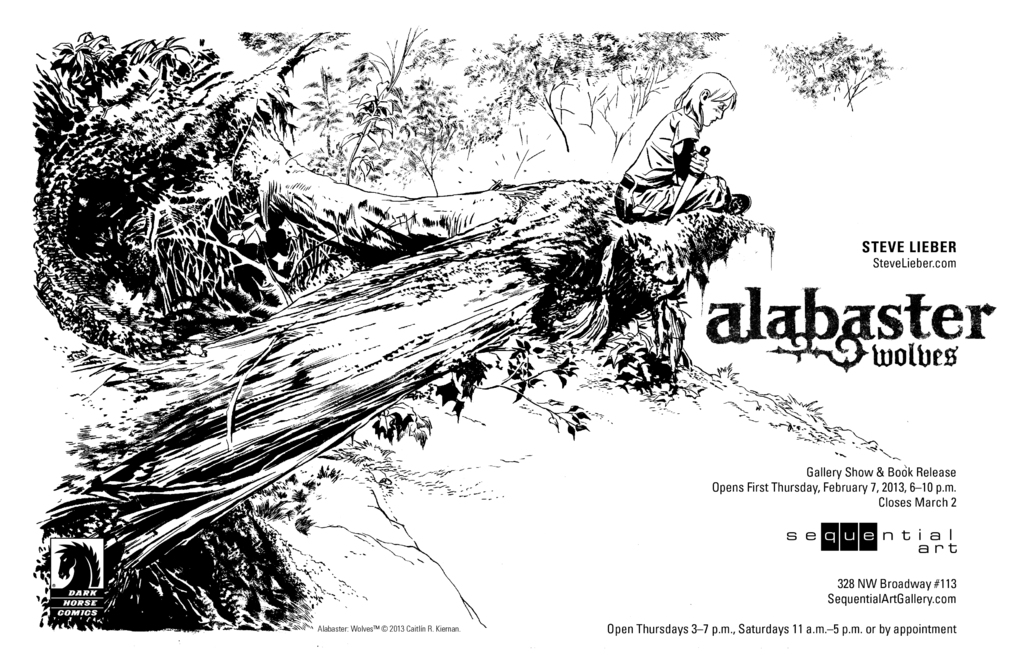Tree: (35, 29, 776, 630)
